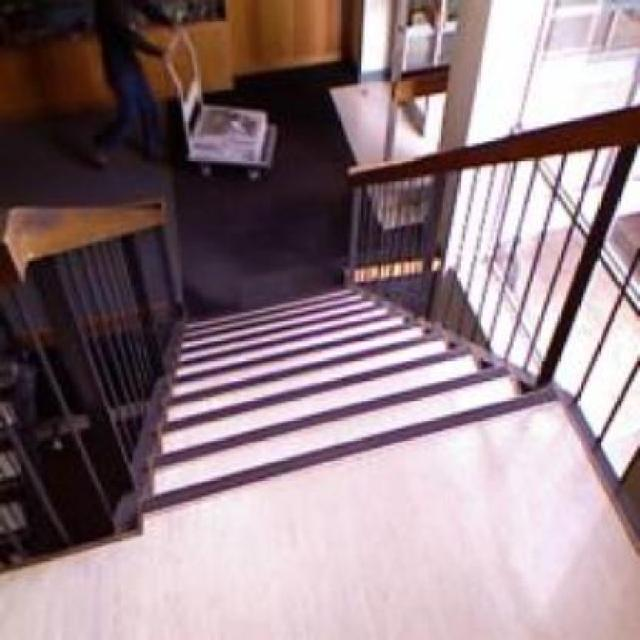stair: (130, 277, 552, 512)
